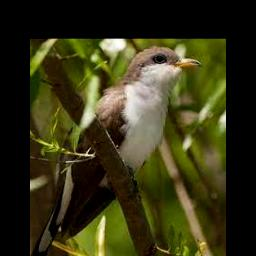Cuckoo: (31, 46, 202, 256)
